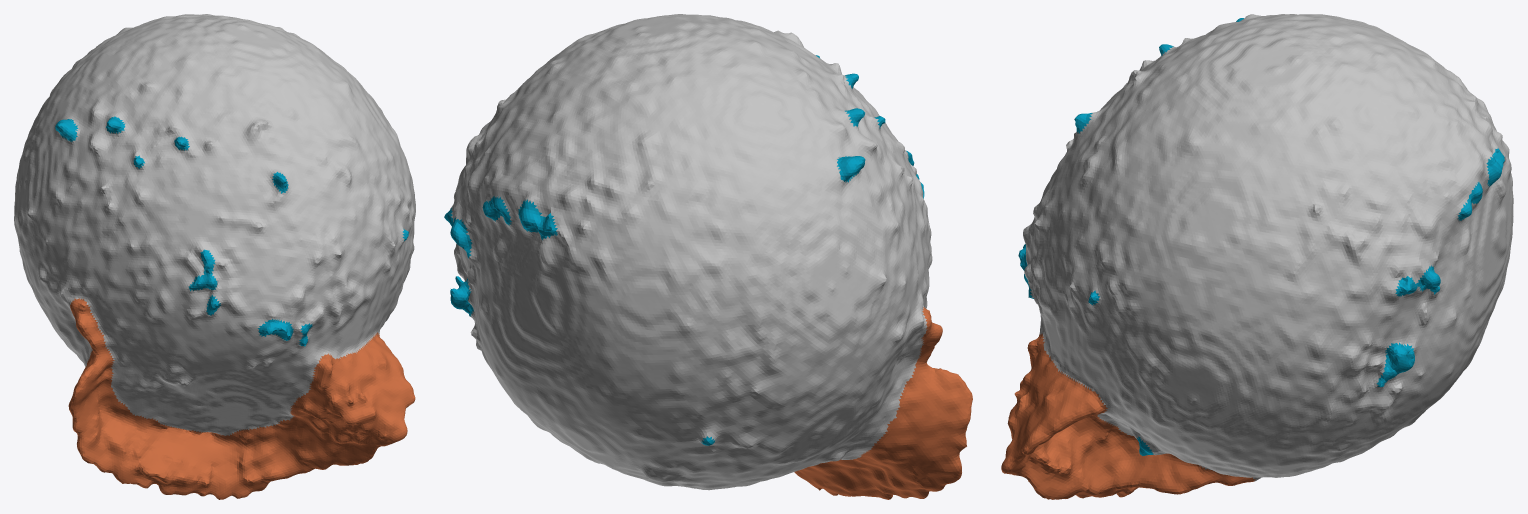
The picture shows the model from 3 angles, left to right: view 1: azimuth 30°, elevation 25°; view 2: azimuth 150°, elevation 25°; view 3: azimuth 270°, elevation 25°; orthographic projection. The views are drawn at different scales.
Size of the model in its own units: 128 by 140 by 135.
